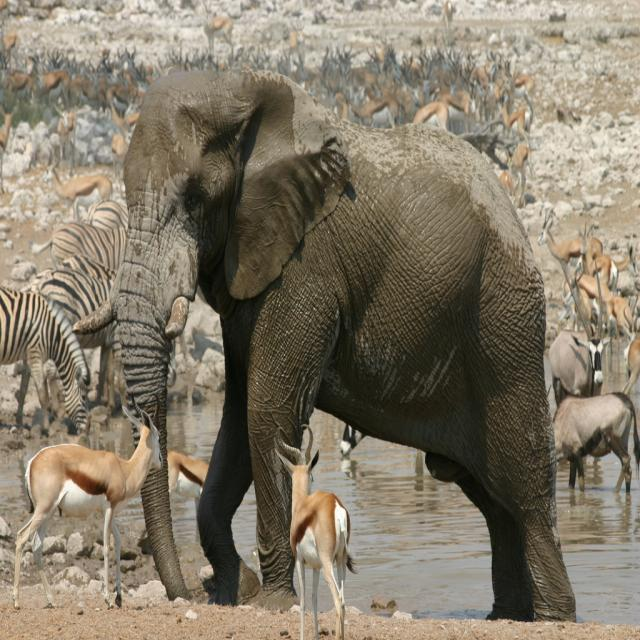elephant: (71, 66, 575, 620)
